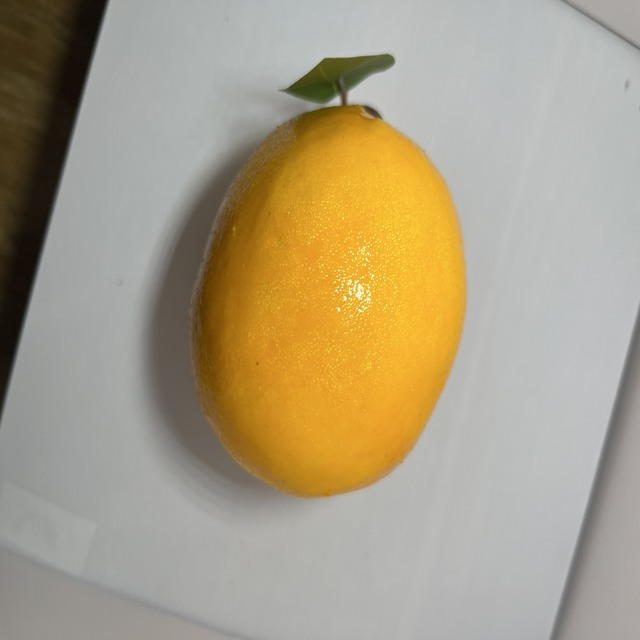Cam vang: (185, 86, 473, 502)
